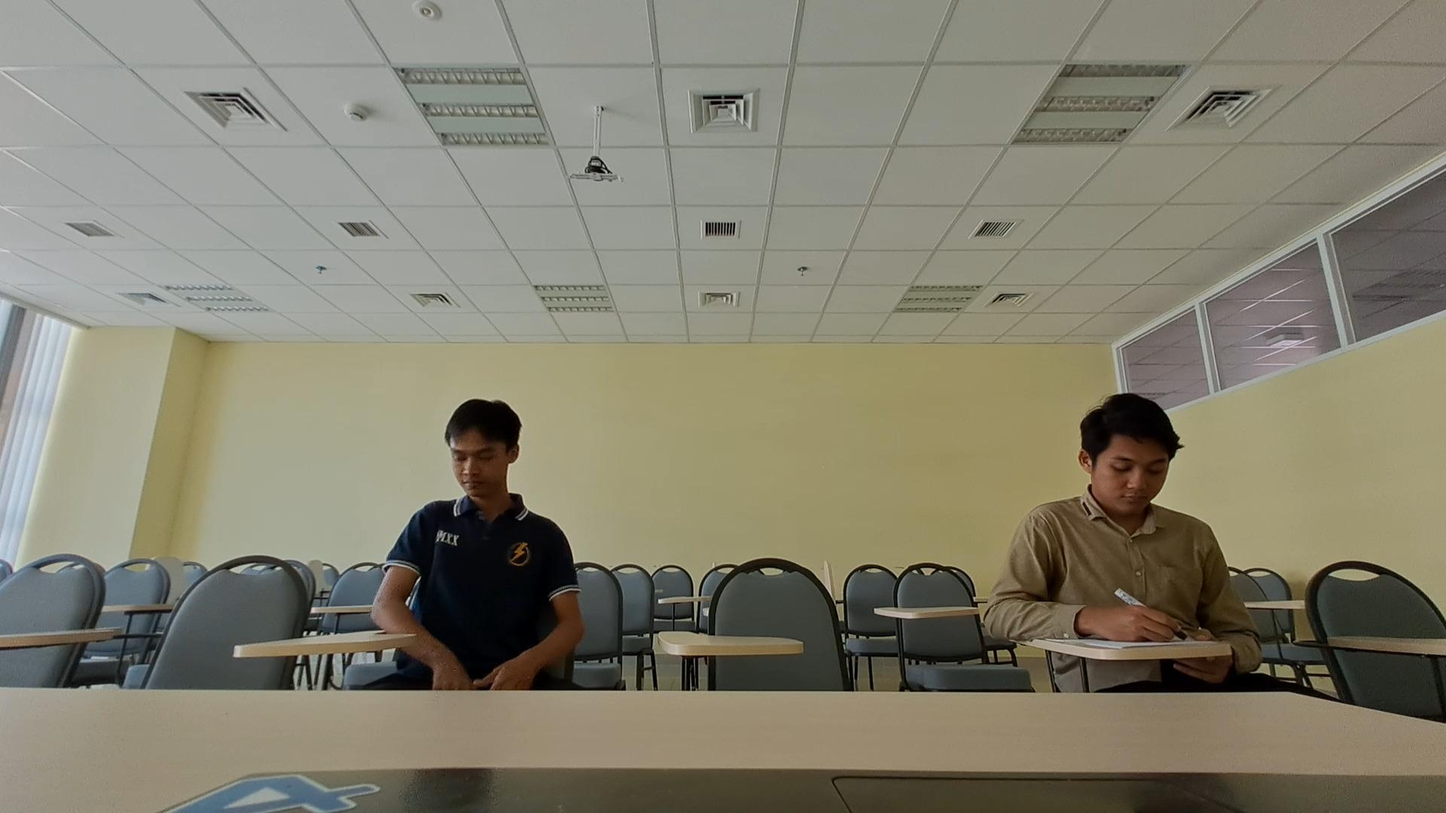study: (970, 381, 1245, 638), (366, 384, 590, 641)
